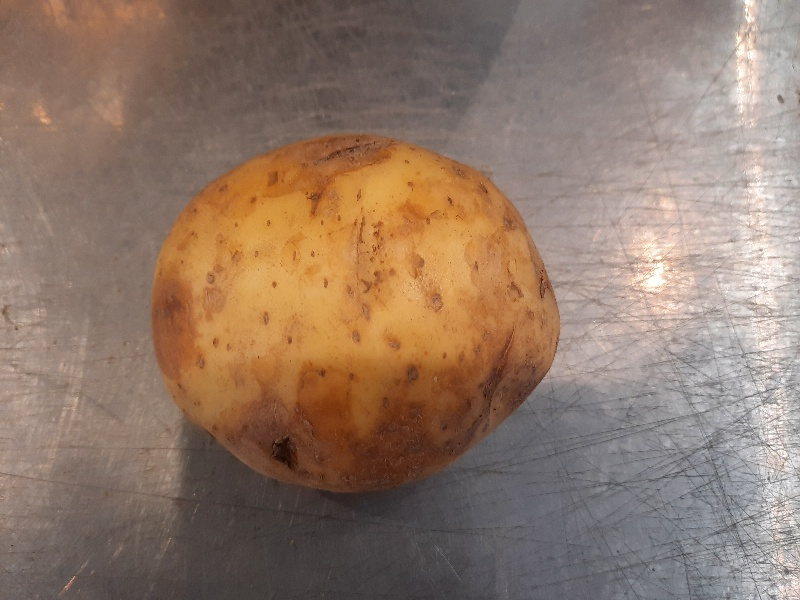vege: (146, 132, 564, 498)
